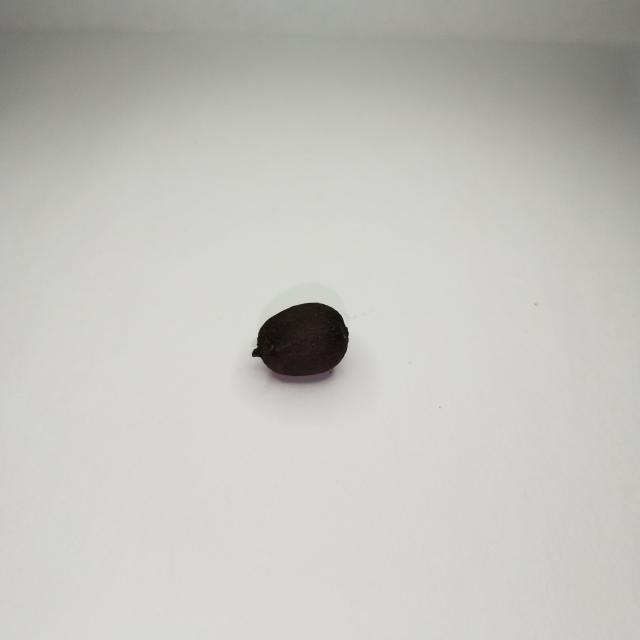Danado: (253, 303, 348, 376)
